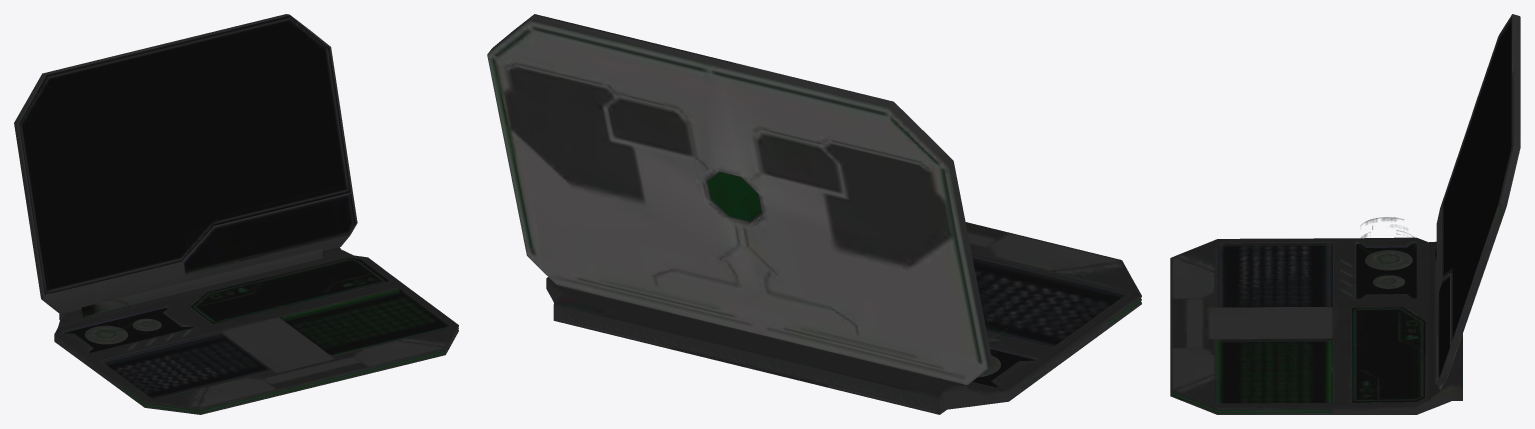
The model's file is laptop.glb.
3 views of the same model, side by side, from view 1: azimuth 30°, elevation 25°; view 2: azimuth 150°, elevation 25°; view 3: azimuth 270°, elevation 25° (orthographic). The views are drawn at different scales.
Parts seen in each view (by area): view 1: R3D_Laptop2_pPlane4_Lap_tex_0, polySurface13_Lap_tex_0; view 2: R3D_Laptop2_pPlane4_Lap_tex_0, polySurface13_Lap_tex_0; view 3: polySurface13_Lap_tex_0, R3D_Laptop2_pPlane4_Lap_tex_0, pCylinder15_Lap_tex_0.
Boxes of the visible parts, x1,y1,x2,y2 form: R3D_Laptop2_pPlane4_Lap_tex_0: [14, 14, 357, 316]; polySurface13_Lap_tex_0: [54, 247, 458, 414]; R3D_Laptop2_pPlane4_Lap_tex_0: [487, 14, 992, 384]; polySurface13_Lap_tex_0: [546, 222, 1141, 414]; polySurface13_Lap_tex_0: [1170, 237, 1462, 414]; R3D_Laptop2_pPlane4_Lap_tex_0: [1435, 14, 1520, 389]; pCylinder15_Lap_tex_0: [1359, 217, 1415, 256].
Size of the model in its own units: 0.4257 by 0.2946 by 0.3724.
1 material, 1 textured.
